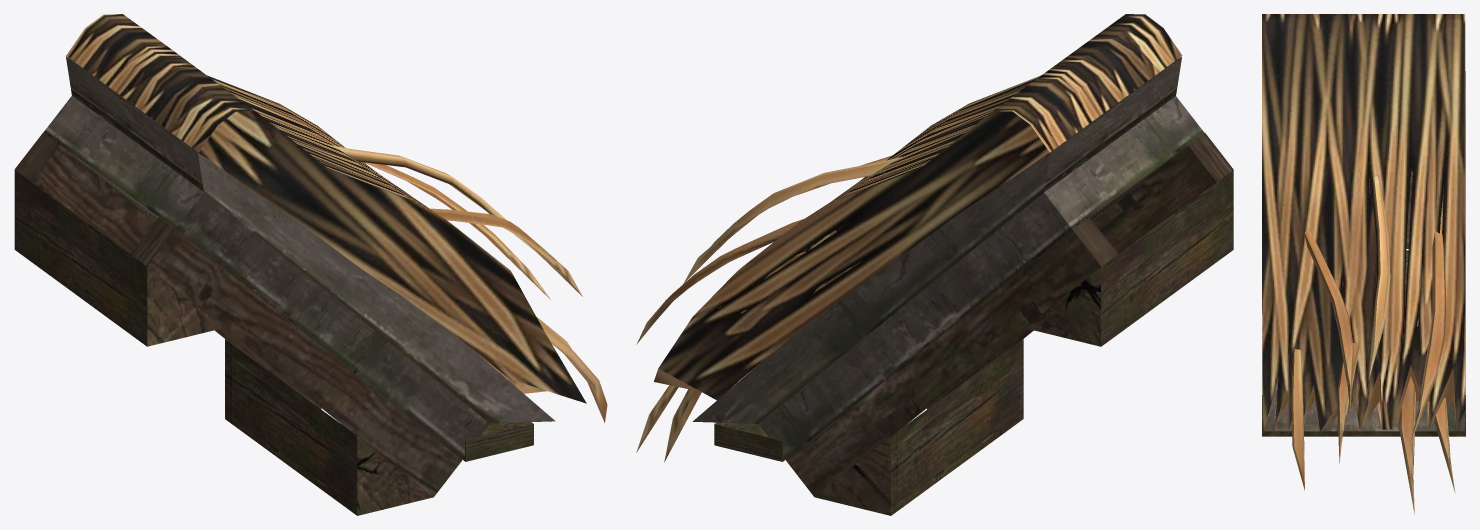
3 renders of one model, left to right at view 1: azimuth 30°, elevation 25°; view 2: azimuth 150°, elevation 25°; view 3: azimuth 270°, elevation 25°, orthographic. The views are drawn at different scales.
Parts seen in each view (by area): view 1: SM_BB_T1_Extended_Roof_Small_LOD0; view 2: SM_BB_T1_Extended_Roof_Small_LOD0; view 3: SM_BB_T1_Extended_Roof_Small_LOD0.
Part boxes in pixels (<box>): SM_BB_T1_Extended_Roof_Small_LOD0: <box>14,14,607,515</box>; SM_BB_T1_Extended_Roof_Small_LOD0: <box>636,14,1233,515</box>; SM_BB_T1_Extended_Roof_Small_LOD0: <box>1262,14,1465,513</box>.
Bounding box in the file's own units: 1.64 × 1.47 × 0.7538.
Materials: 3 (3 with a texture image).
